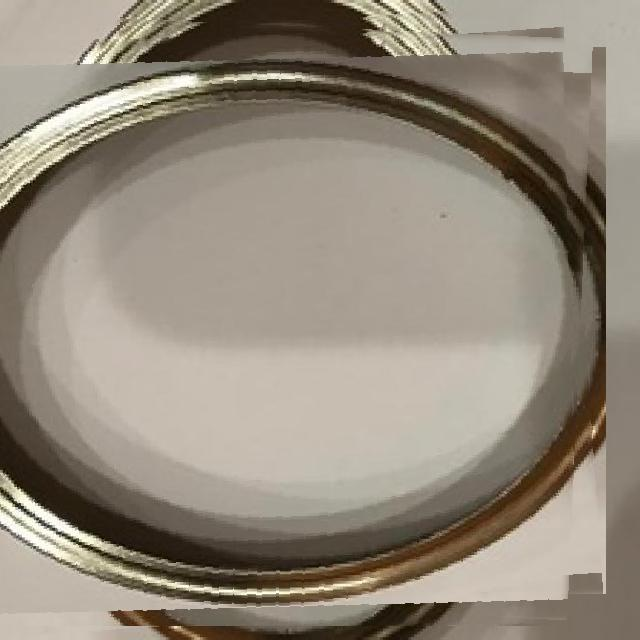recyclable: (0, 13, 593, 626)
